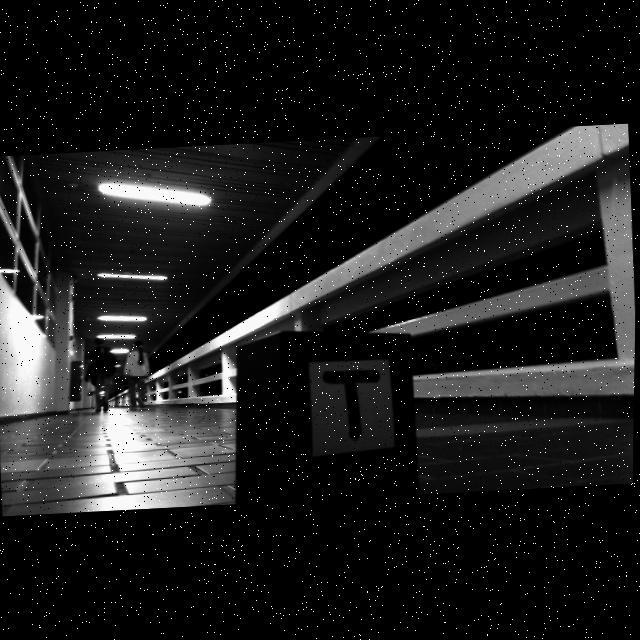T: (324, 371, 382, 440)
